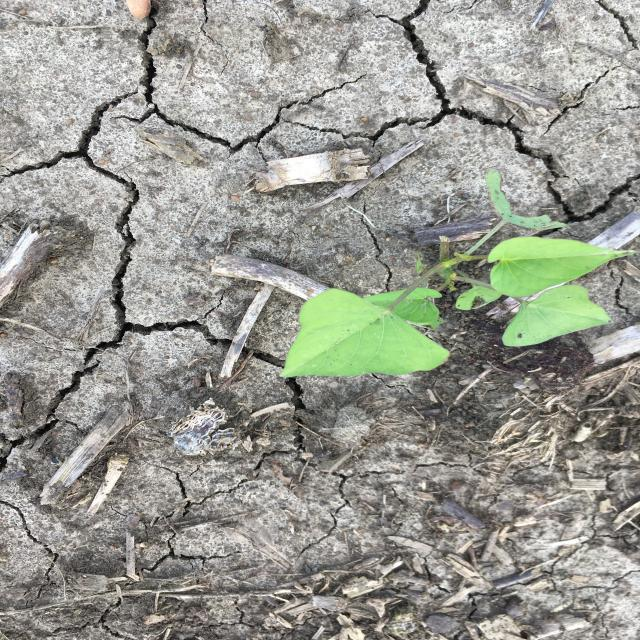MorningGlory: (279, 173, 638, 380)
